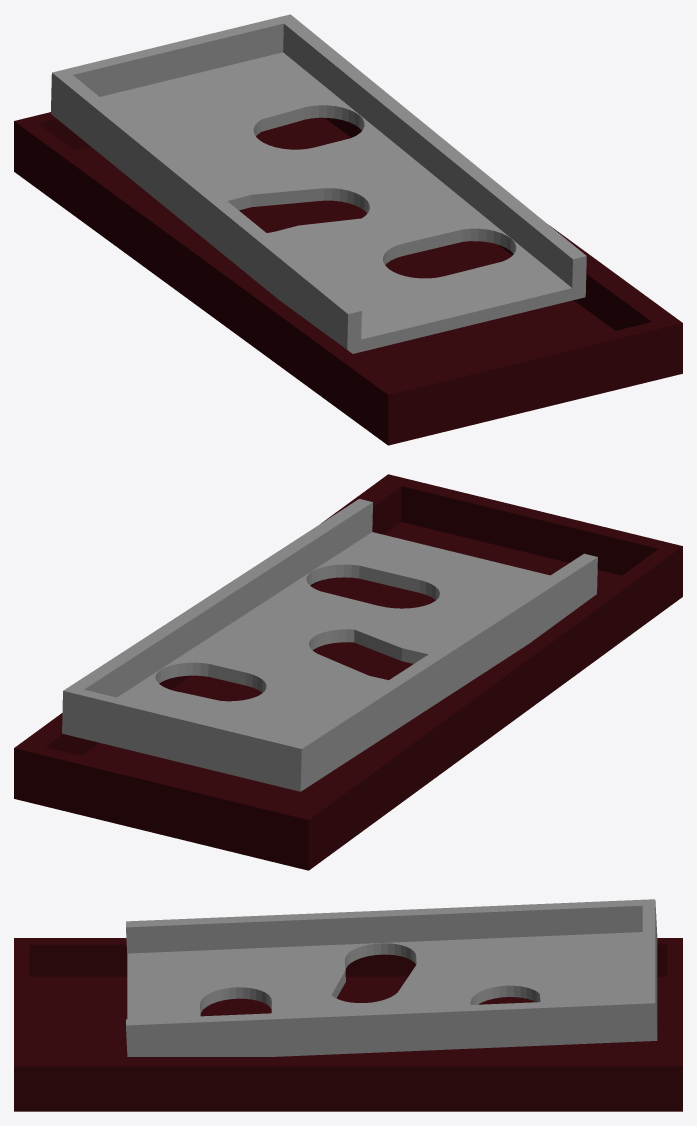
The model's file is dai.glb.
3 renders of one model, top to bottom at view 1: azimuth 30°, elevation 25°; view 2: azimuth 150°, elevation 25°; view 3: azimuth 270°, elevation 25°, orthographic. The views are drawn at different scales.
Parts seen in each view (by area): view 1: Cube, 立方体; view 2: Cube, 立方体; view 3: Cube, 立方体.
Part boxes in pixels (<box>): Cube: <box>50,14,586,353</box>; 立方体: <box>14,112,682,445</box>; Cube: <box>62,499,597,791</box>; 立方体: <box>14,474,682,870</box>; Cube: <box>126,899,657,1056</box>; 立方体: <box>14,938,682,1111</box>.
Size of the model in its own units: 5.91 by 2.01 by 13.01.
